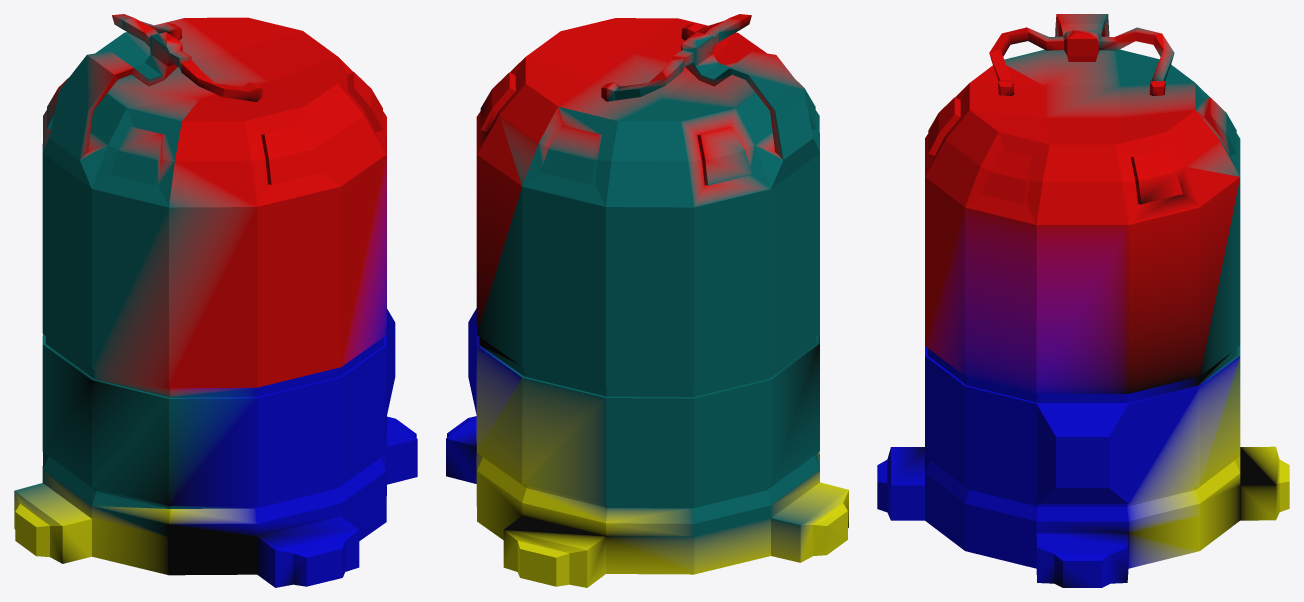
The model's file is BarrelVertexColors.fbx.
3 views of the same model, side by side, from view 1: azimuth 30°, elevation 25°; view 2: azimuth 150°, elevation 25°; view 3: azimuth 270°, elevation 25° (orthographic). The views are drawn at different scales.
Visible parts, largest first — view 1: Barrel; view 2: Barrel; view 3: Barrel.
Boxes of the visible parts, box(x1,y1,x2,y2) form: Barrel: box(14, 14, 417, 587); Barrel: box(446, 14, 848, 587); Barrel: box(877, 14, 1289, 587).
Size of the model in its own units: 0.7039 by 0.8464 by 0.7068.
